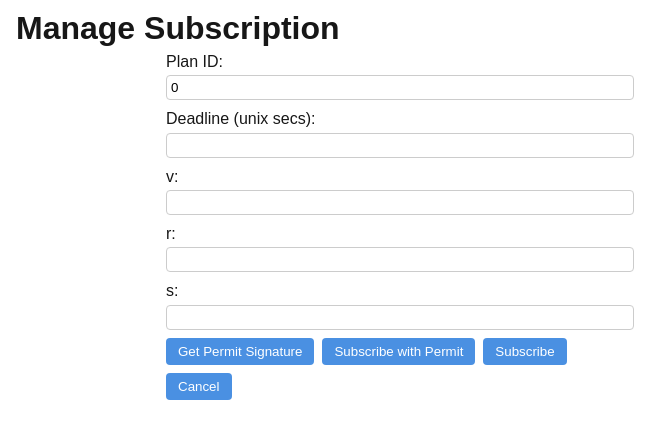
it: shows message when subscribe fails
The width and height of the screenshot is (651, 447).
Replace the text in the field labelled "Plan ID:" with "1" at (400, 88), box [166,75,634,100]
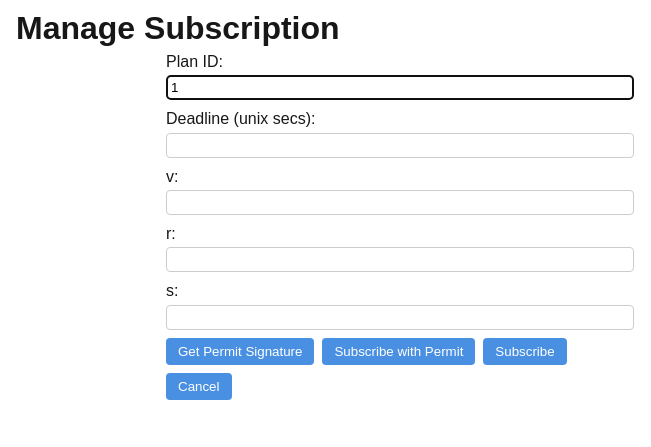
Click the button "Subscribe" at (525, 351), box [483,338,567,365]
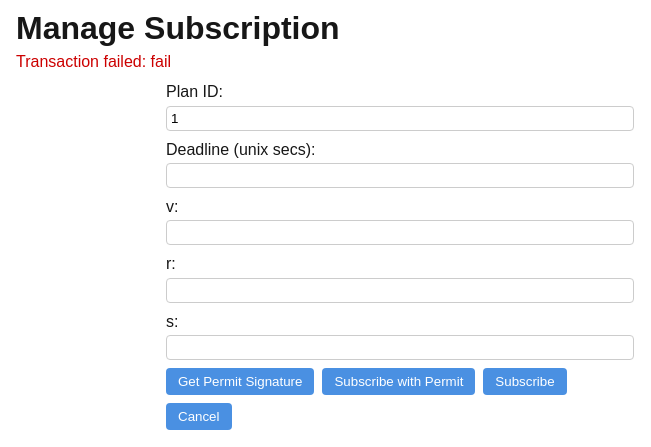
Expected: the text "Transaction failed: fail" is shown, [16,53,171,70]
